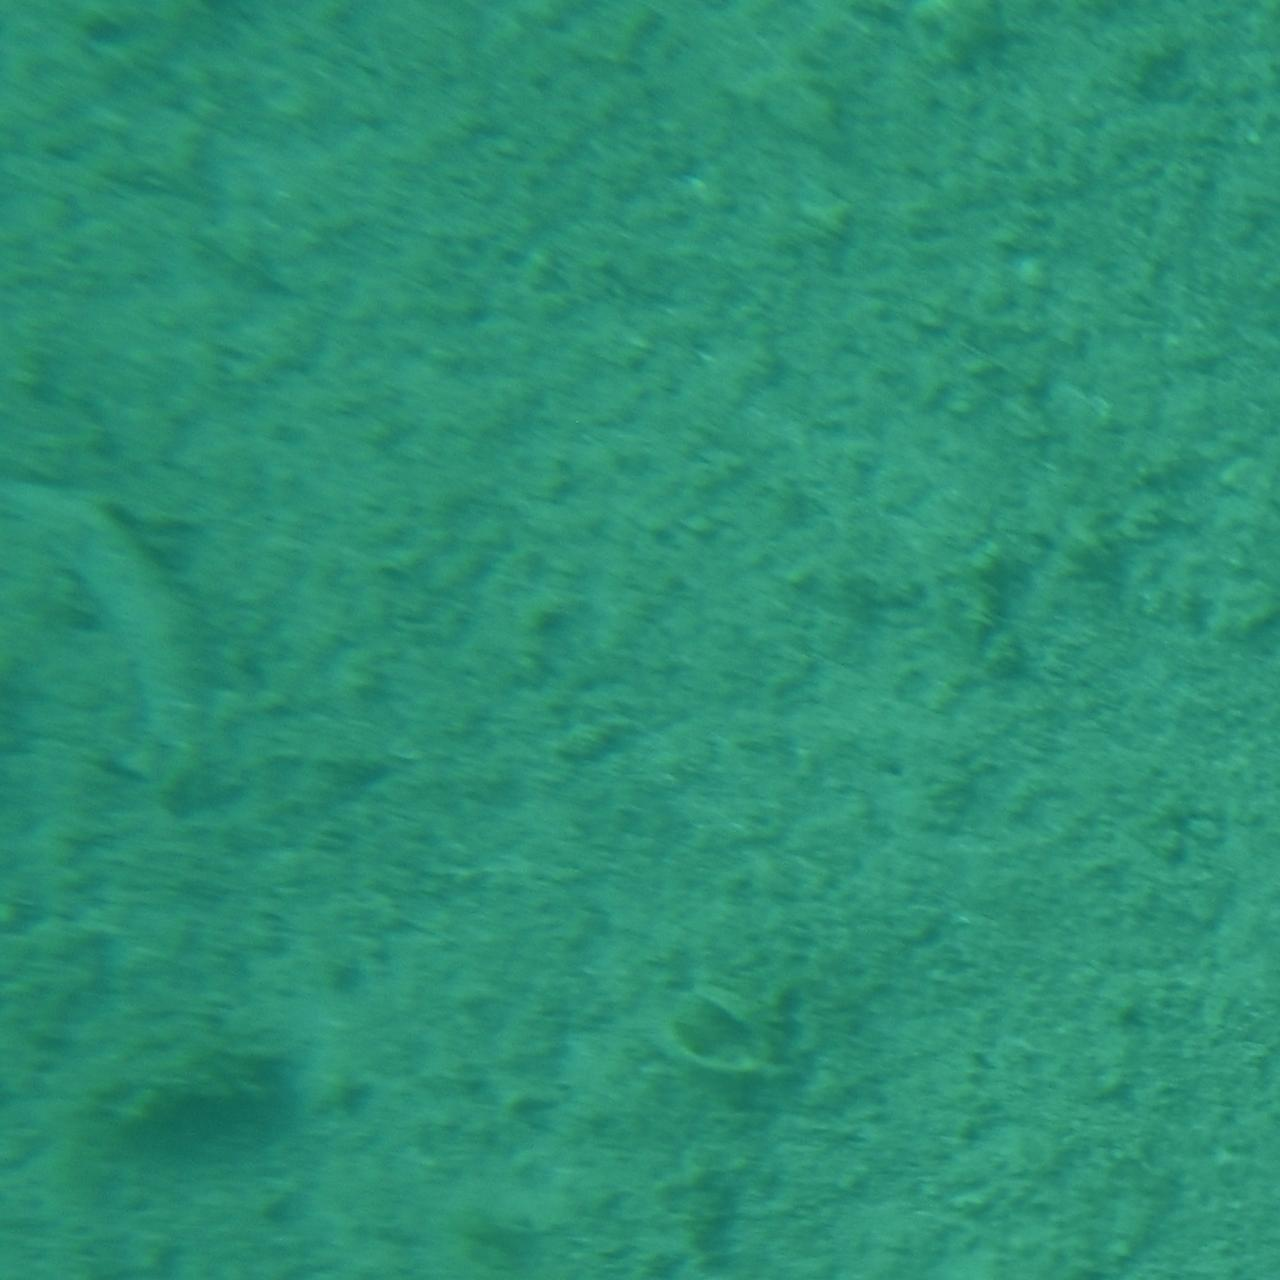Holothuria tubulosa: (0, 452, 236, 828)
